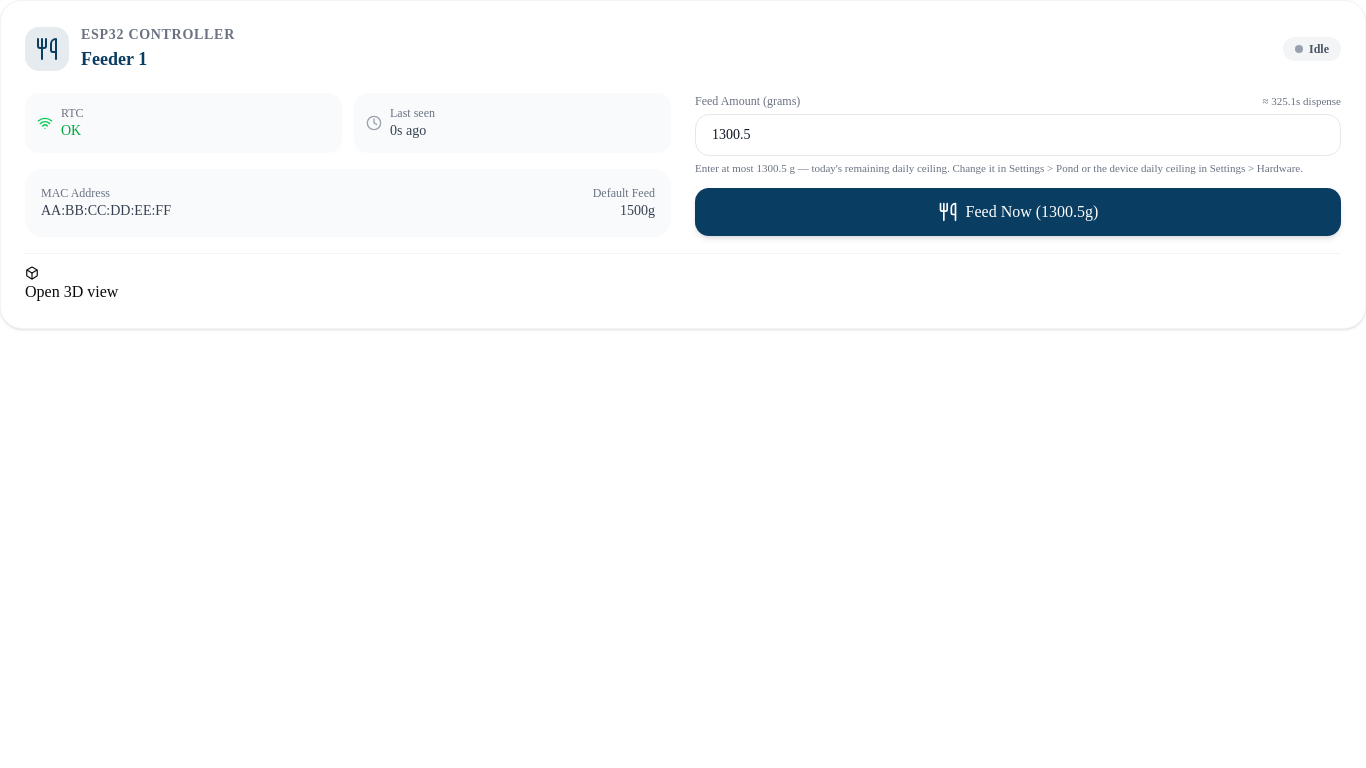
Test: EnergyControllerCard Feed Now input › cancels the confirmation on Escape without sending
The image size is (1366, 768).
Step 1. Click the button "Feed Now (1300.5g)" → coordinates (1018, 212), box [695, 188, 1341, 236]
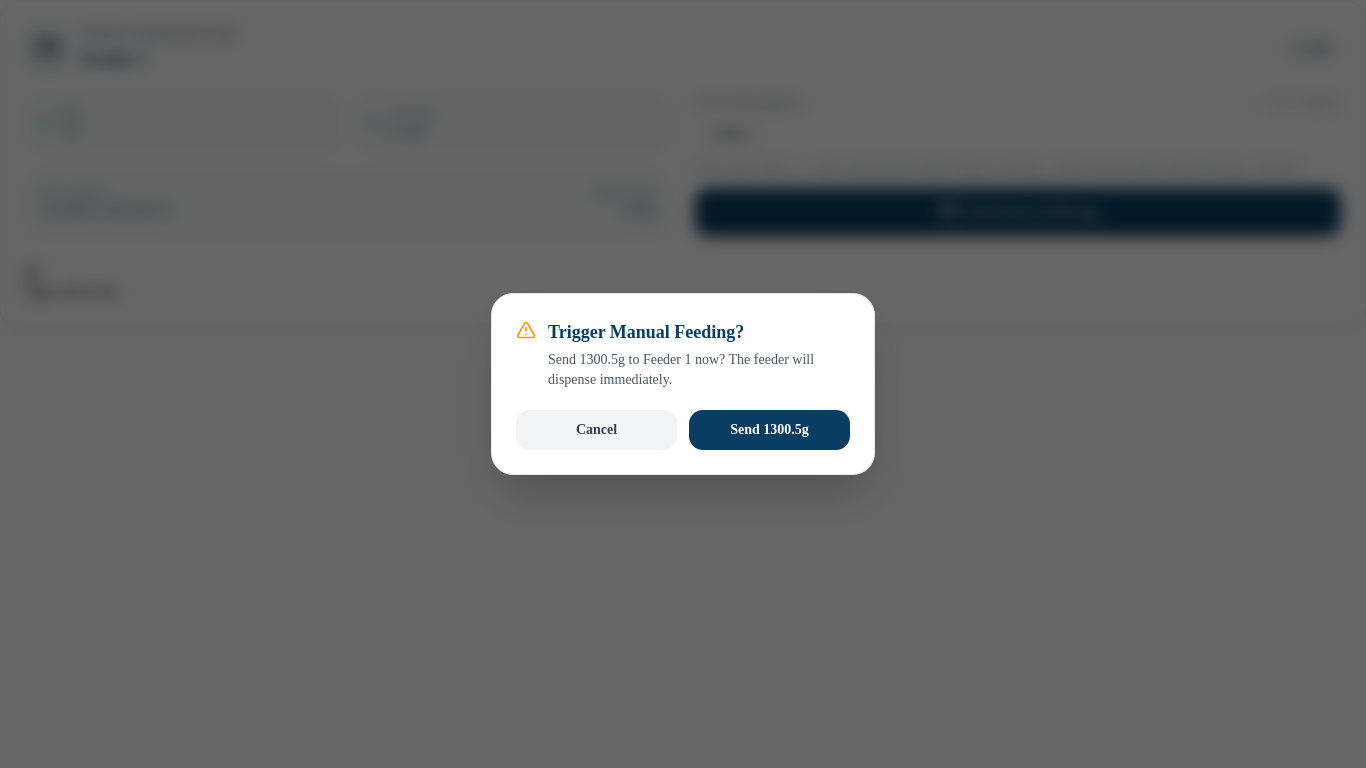
Step 2. Press Escape
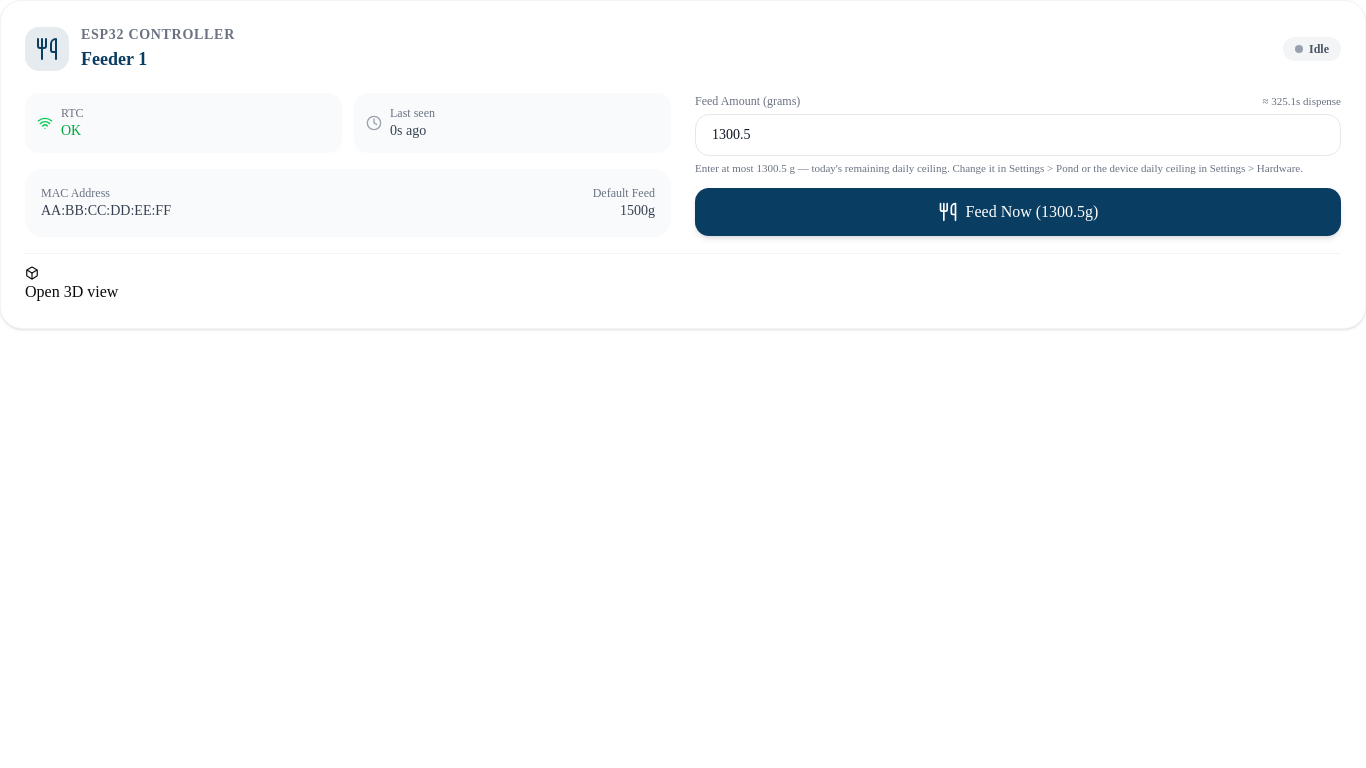
Now the dialog is gone
